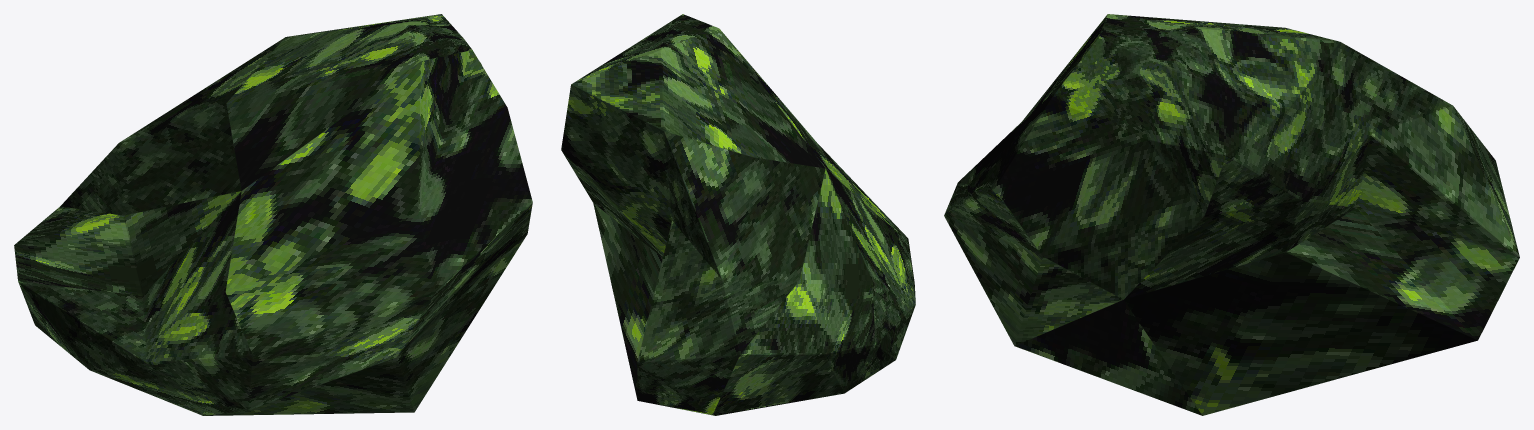
File: bush_green.glb
The picture shows the model from 3 angles, left to right: view 1: azimuth 30°, elevation 25°; view 2: azimuth 150°, elevation 25°; view 3: azimuth 270°, elevation 25°; orthographic projection. The views are drawn at different scales.
Visible parts, largest first — view 1: Icosphere.004; view 2: Icosphere.004; view 3: Icosphere.004.
Part boxes in pixels (x1,y1,x2,y2): Icosphere.004: (14, 14, 532, 415); Icosphere.004: (561, 14, 915, 415); Icosphere.004: (944, 14, 1519, 415).
Size of the model in its own units: 31.05 by 25.65 by 32.95.
1 material, 1 textured.
